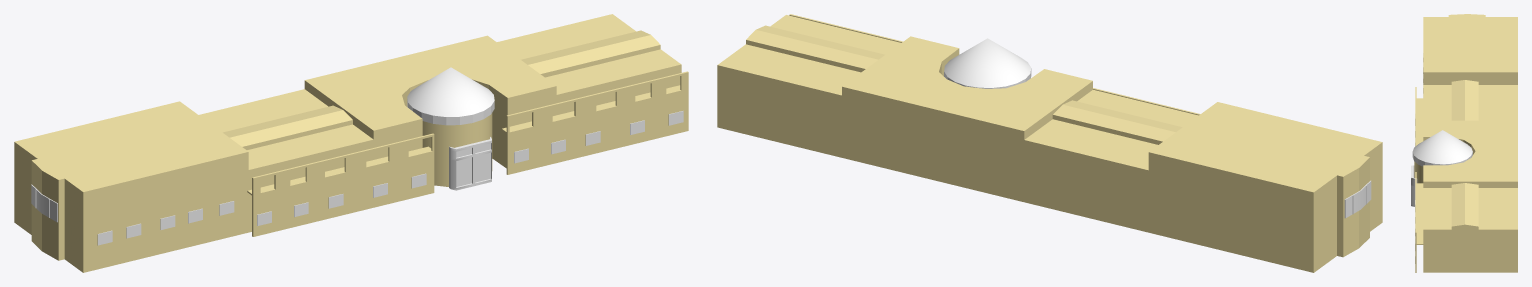
File: VariHall.fbx
3 views of the same model, side by side, from view 1: azimuth 30°, elevation 25°; view 2: azimuth 150°, elevation 25°; view 3: azimuth 270°, elevation 25° (orthographic). The views are drawn at different scales.
Visible parts, largest first — view 1: pCube1, pCube3, pCone1, pCylinder1, pCube2, pCube19; view 2: pCube1, pCone1, pCube19, pCube3; view 3: pCube1, pCone1, pCube3, pCube2, pCylinder1.
Part boxes in pixels (x1=…): pCube1: x1=14, y1=14, x2=681, y2=272; pCube3: x1=247, y1=71, x2=688, y2=236; pCone1: x1=407, y1=67, x2=494, y2=125; pCylinder1: x1=422, y1=113, x2=492, y2=186; pCube2: x1=449, y1=137, x2=491, y2=190; pCube19: x1=31, y1=184, x2=57, y2=222; pCube1: x1=717, y1=15, x2=1382, y2=272; pCone1: x1=944, y1=38, x2=1031, y2=88; pCube19: x1=1344, y1=180, x2=1371, y2=218; pCube3: x1=789, y1=14, x2=1200, y2=115; pCube1: x1=1423, y1=14, x2=1517, y2=272; pCone1: x1=1412, y1=130, x2=1472, y2=166; pCube3: x1=1415, y1=87, x2=1423, y2=272; pCube2: x1=1411, y1=165, x2=1417, y2=206; pCylinder1: x1=1414, y1=161, x2=1423, y2=183.
Bounding box in the file's own units: 227 × 36.34 × 50.21.
